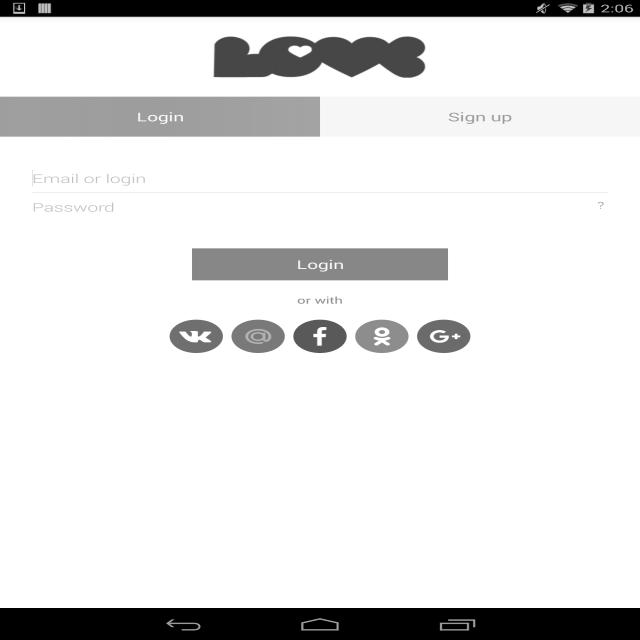Button: (192, 248, 448, 280), (231, 320, 285, 353), (293, 320, 347, 353), (355, 320, 409, 353), (170, 320, 223, 353), (417, 320, 470, 353)
EditText: (32, 170, 608, 186), (32, 199, 608, 215)
ImageView: (213, 21, 427, 92)
RadioButton: (0, 96, 320, 136), (320, 96, 640, 136)
TextView: (297, 294, 343, 306), (594, 199, 608, 211)
